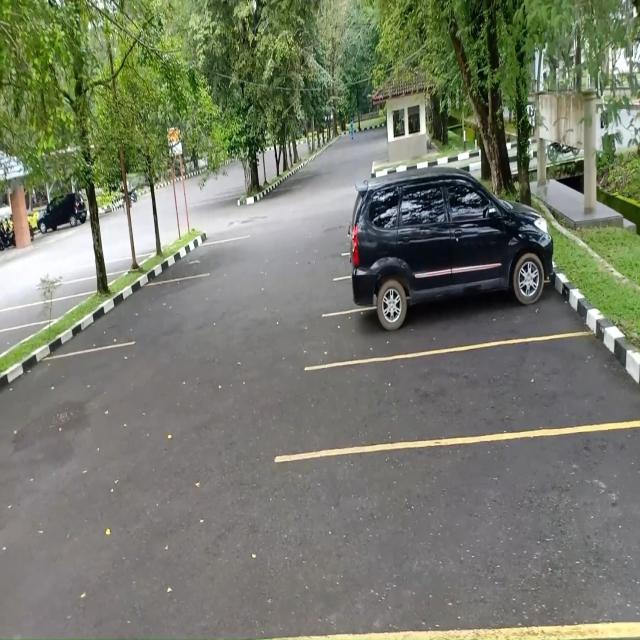empty: (302, 429, 640, 640), (325, 341, 628, 435), (128, 274, 198, 346), (170, 238, 234, 278), (14, 296, 78, 326), (56, 276, 99, 294)
occupied: (349, 246, 562, 343)
